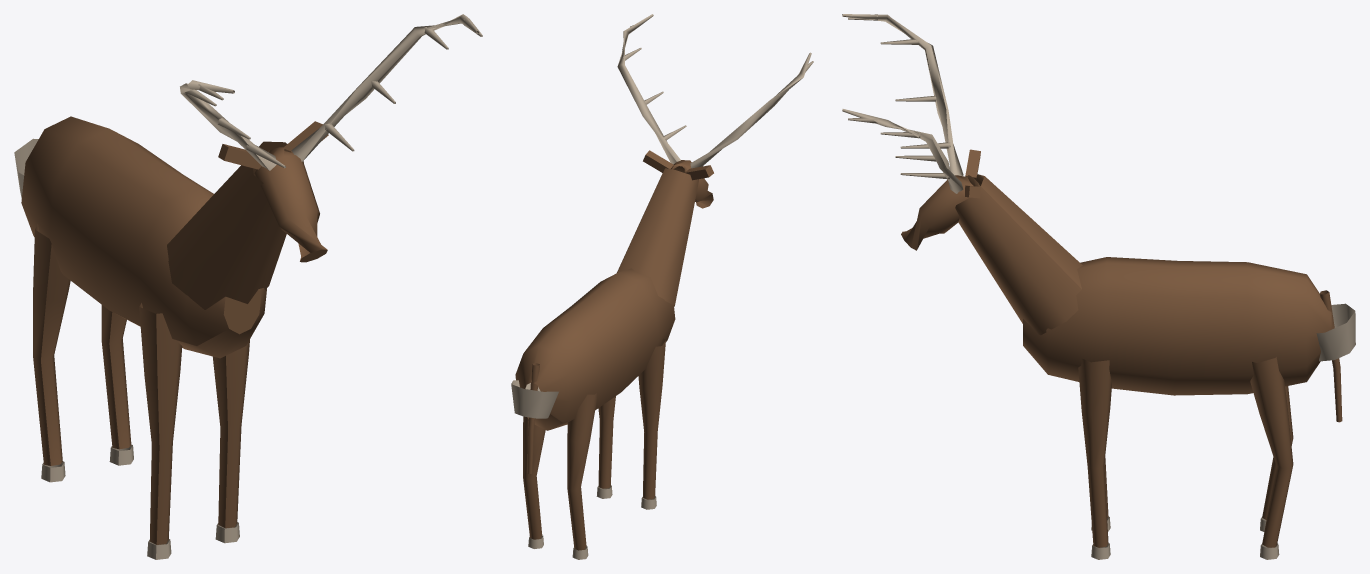
Rendered from deer.glb.
3 renders of one model, left to right at view 1: azimuth 30°, elevation 25°; view 2: azimuth 150°, elevation 25°; view 3: azimuth 270°, elevation 25°, orthographic. The views are drawn at different scales.
Visible parts, largest first — view 1: deer, deer-pale; view 2: deer, deer-pale; view 3: deer, deer-pale.
Boxes of the visible parts, x1,y1,x2,y2 form: deer: (21, 116, 328, 544); deer-pale: (14, 14, 482, 559); deer: (515, 150, 713, 550); deer-pale: (511, 14, 813, 559); deer: (901, 149, 1342, 547); deer-pale: (842, 14, 1355, 559).
Size of the model in its own units: 1.03 by 2.13 by 2.06.
